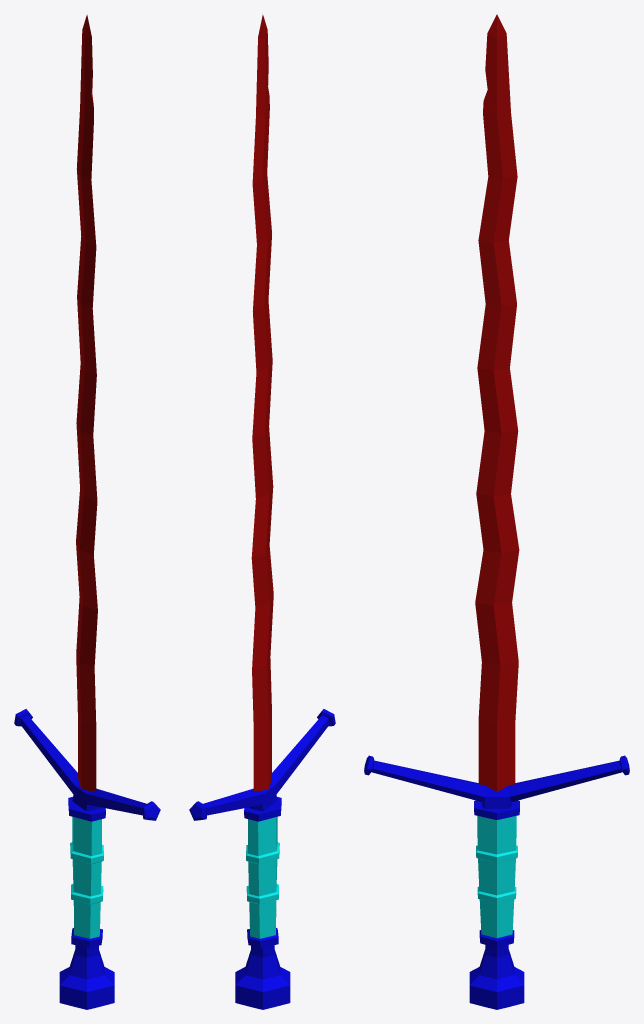
File: Sword_Common_SmallFlamberge.fbx
3 renders of one model, left to right at view 1: azimuth 30°, elevation 25°; view 2: azimuth 150°, elevation 25°; view 3: azimuth 270°, elevation 25°, orthographic.
Parts seen in each view (by area): view 1: SM_Wep_Sword_08; view 2: SM_Wep_Sword_08; view 3: SM_Wep_Sword_08.
Part boxes in pixels (bbox=[...]): SM_Wep_Sword_08: bbox=[14, 14, 160, 1009]; SM_Wep_Sword_08: bbox=[189, 14, 335, 1009]; SM_Wep_Sword_08: bbox=[364, 14, 629, 1009].
Bounding box in the file's own units: 8.97 × 155 × 37.69.
